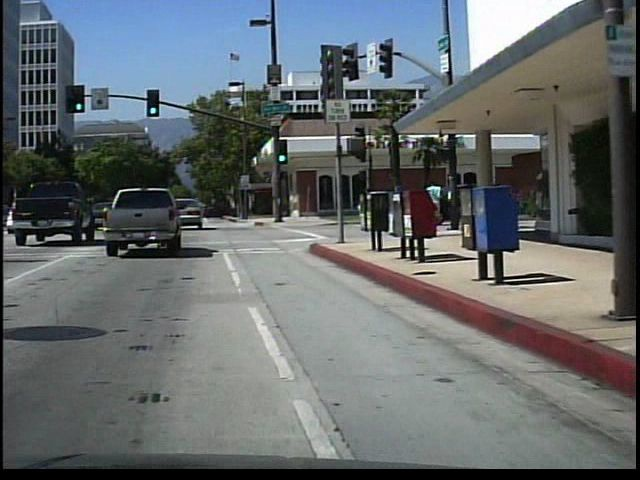person: (431, 176, 440, 235)
